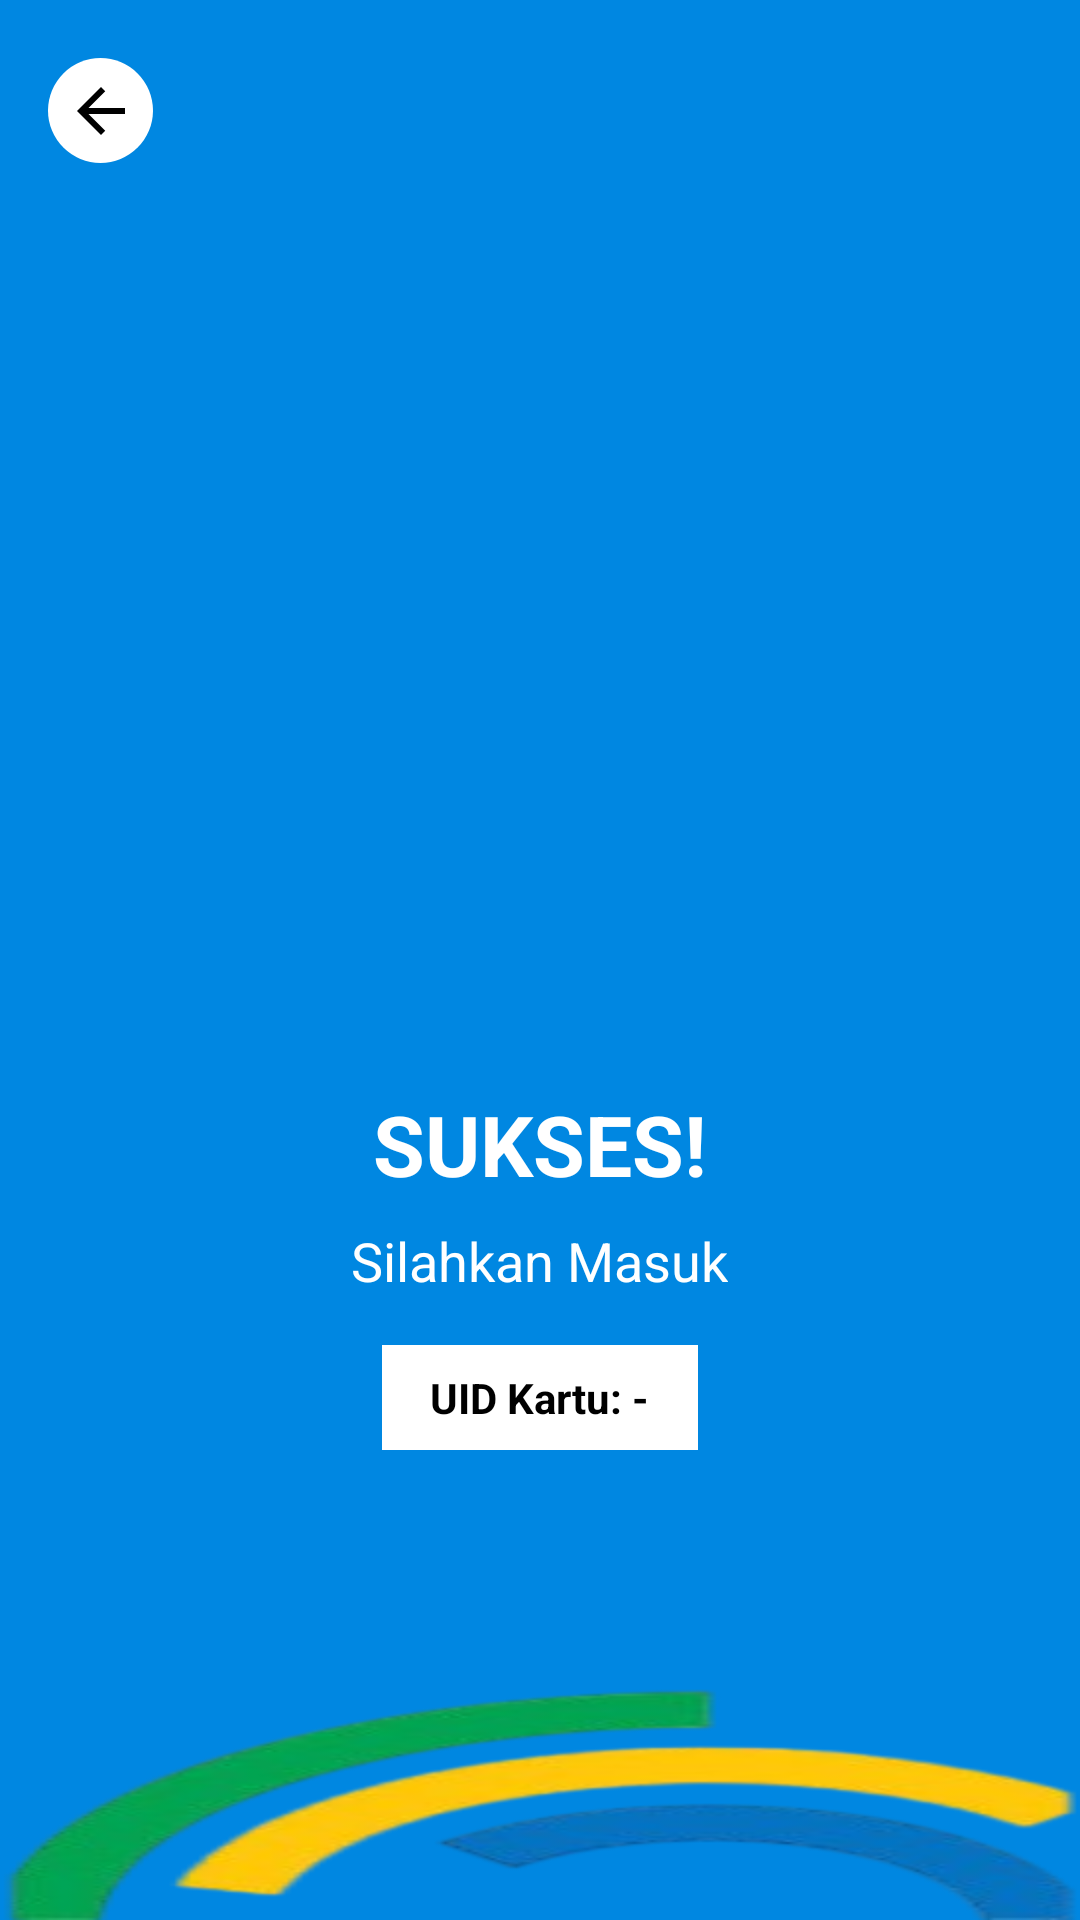

Point at icon controls on the screen. Image size 1080*1920, points as (x=x, y=y).
Tombol Kembali: (x=100, y=110)
